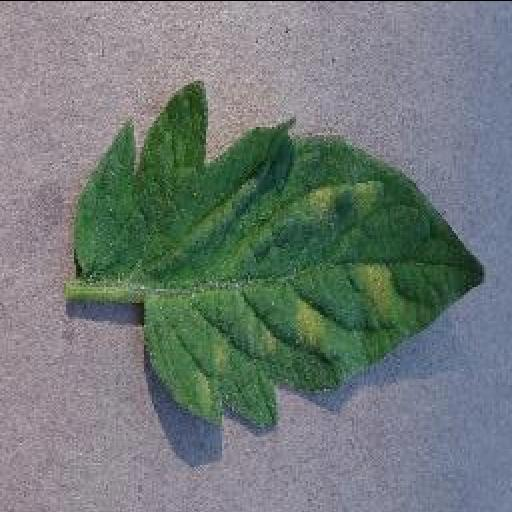Leaf Mold: (74, 77, 488, 430)
